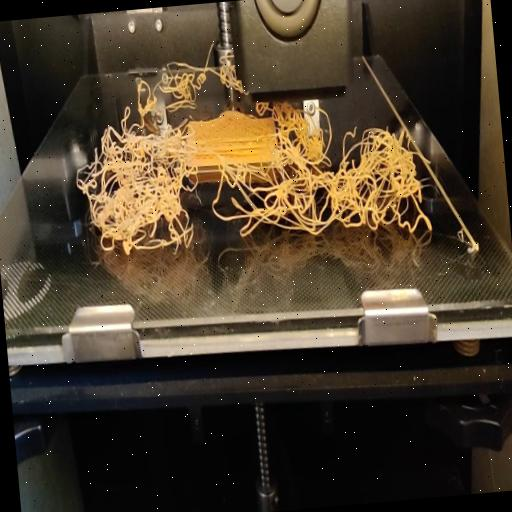spaghetti: (72, 88, 436, 270), (130, 36, 244, 114)
